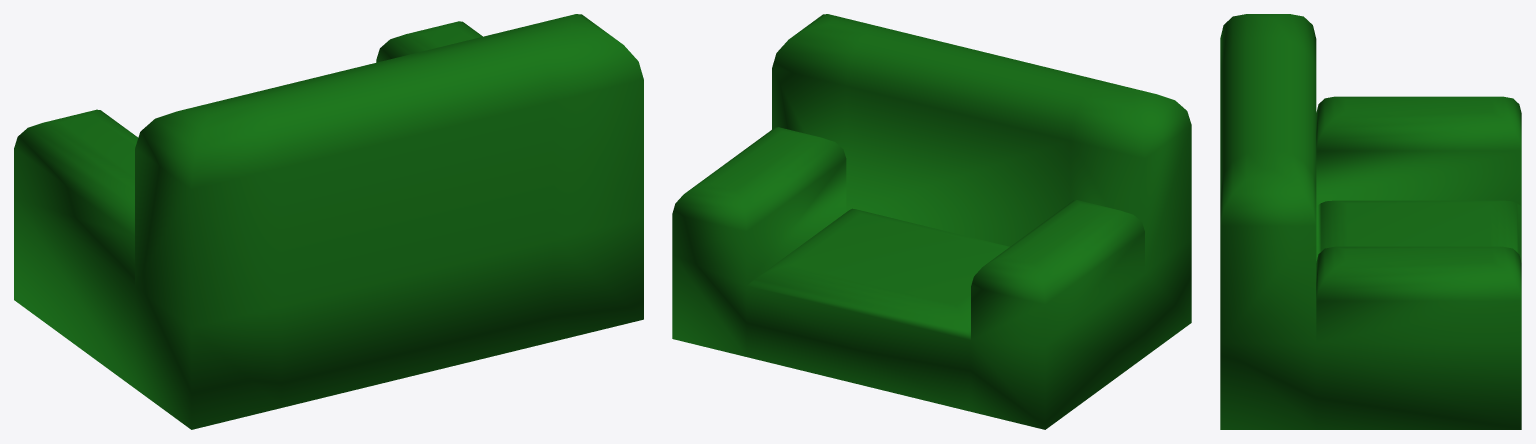
The model's file is sofu.fbx.
3 views of the same model, side by side, from view 1: azimuth 30°, elevation 25°; view 2: azimuth 150°, elevation 25°; view 3: azimuth 270°, elevation 25° (orthographic). The views are drawn at different scales.
Visible parts, largest first — view 1: Cube; view 2: Cube; view 3: Cube.
Part boxes in pixels (box(x1,y1,x2,y2)): Cube: box(14, 14, 643, 429); Cube: box(672, 14, 1191, 429); Cube: box(1220, 14, 1521, 429).
Size of the model in its own units: 925 by 558 by 628.
